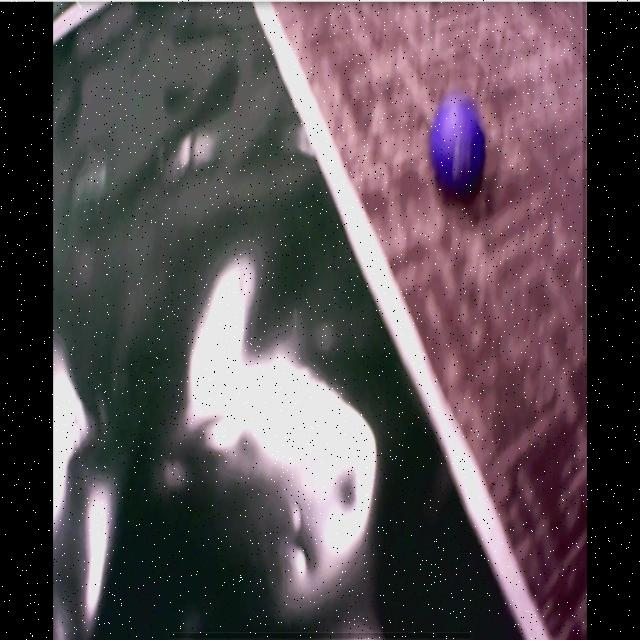ball: (430, 98, 488, 199)
